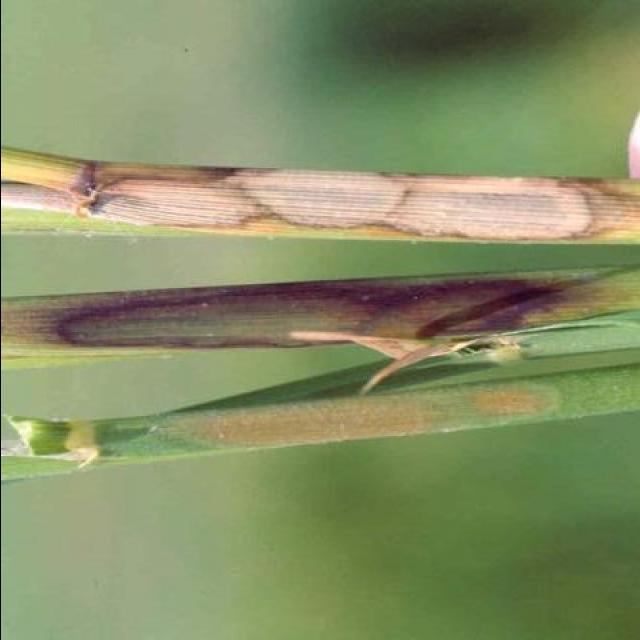Bacterial_Leaf_Blight: (1, 166, 640, 240), (56, 278, 570, 350), (182, 376, 557, 452)
